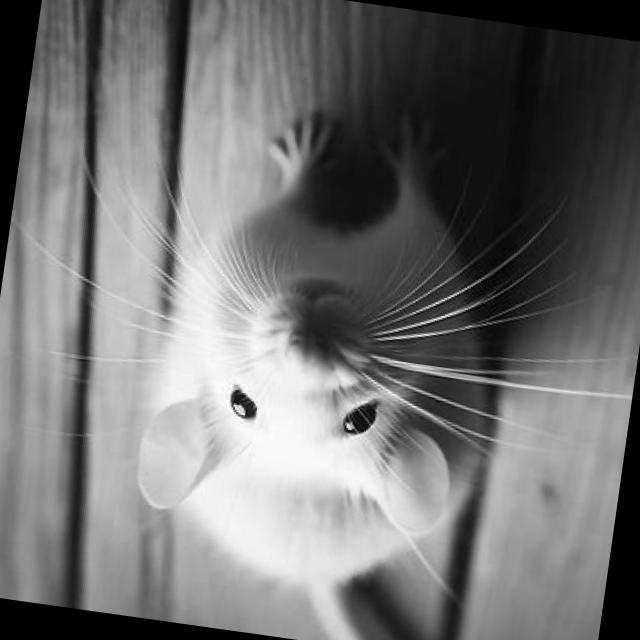rodent: (100, 72, 553, 619)
